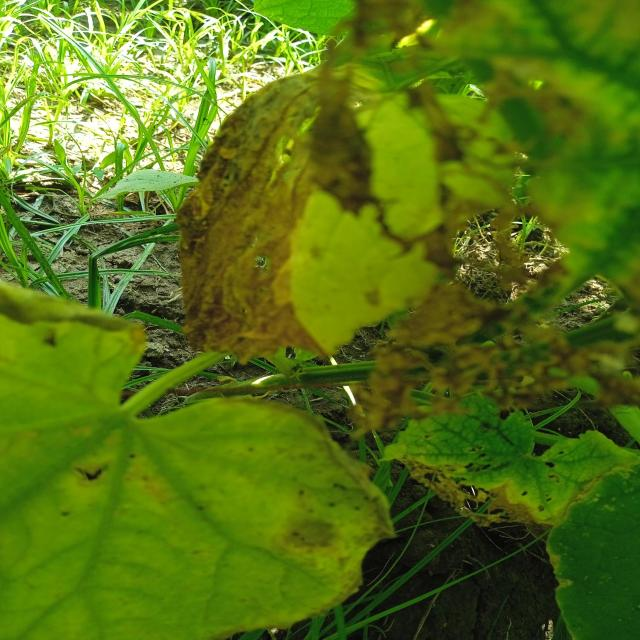cucumber_gummy: (165, 45, 465, 368), (147, 388, 402, 640), (370, 375, 640, 587)
